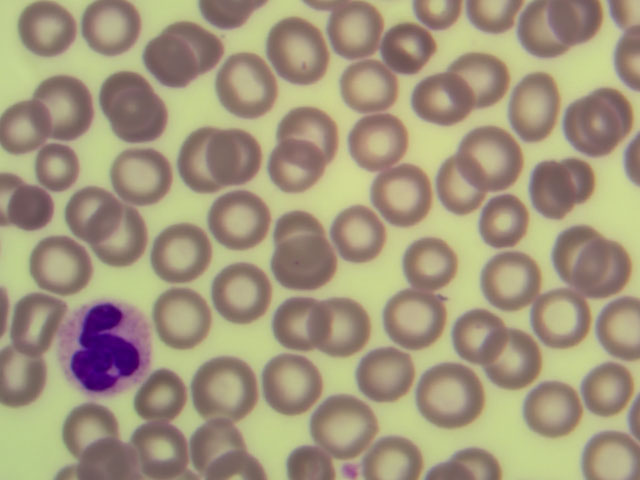Platelets: (338, 462, 360, 480)
RBC: (184, 350, 257, 421), (415, 362, 488, 427), (215, 50, 283, 117), (258, 20, 331, 82), (504, 69, 566, 141), (28, 234, 93, 295), (518, 380, 583, 441), (575, 419, 640, 480), (361, 419, 426, 480), (311, 394, 376, 455), (128, 371, 193, 432), (185, 419, 250, 480), (125, 419, 190, 480), (57, 396, 122, 457), (29, 76, 94, 137), (381, 296, 446, 357), (306, 293, 371, 354), (271, 294, 336, 355), (262, 209, 327, 270), (273, 233, 338, 294), (205, 188, 270, 249), (208, 263, 273, 324), (352, 346, 417, 407), (258, 354, 323, 415), (145, 220, 210, 281), (152, 287, 217, 348), (108, 141, 173, 202), (86, 205, 151, 266), (58, 182, 123, 243), (347, 112, 412, 173), (335, 54, 400, 115), (275, 103, 340, 164), (266, 138, 331, 199), (197, 125, 262, 186), (175, 127, 240, 188), (159, 16, 224, 77), (136, 26, 201, 87), (96, 68, 161, 129), (105, 83, 170, 144), (457, 126, 522, 187), (410, 68, 475, 129), (444, 48, 509, 109), (372, 19, 437, 80), (575, 26, 640, 87), (564, 91, 629, 152), (520, 158, 585, 219), (474, 188, 539, 249), (550, 224, 615, 285), (564, 238, 629, 299), (478, 249, 543, 310), (575, 357, 640, 418), (575, 399, 640, 460), (477, 328, 542, 389), (444, 301, 509, 362), (387, 229, 452, 290), (430, 149, 495, 210), (369, 165, 434, 226), (1, 96, 65, 157), (1, 284, 65, 345), (1, 171, 64, 232), (326, 1, 391, 60), (79, 1, 144, 60), (14, 1, 79, 60), (415, 1, 480, 60), (464, 1, 529, 60), (513, 1, 578, 60), (539, 1, 604, 60), (575, 1, 640, 60), (331, 201, 386, 270), (530, 284, 589, 346), (593, 287, 640, 358), (1, 342, 50, 407), (15, 289, 64, 352), (445, 434, 512, 480), (411, 428, 468, 480), (210, 431, 269, 480), (76, 433, 137, 480), (31, 138, 84, 192), (199, 1, 270, 35), (284, 434, 332, 480), (606, 134, 640, 198), (48, 446, 108, 480), (1, 173, 28, 235), (146, 453, 203, 480), (301, 1, 365, 25)
WBC: (56, 299, 154, 397)
